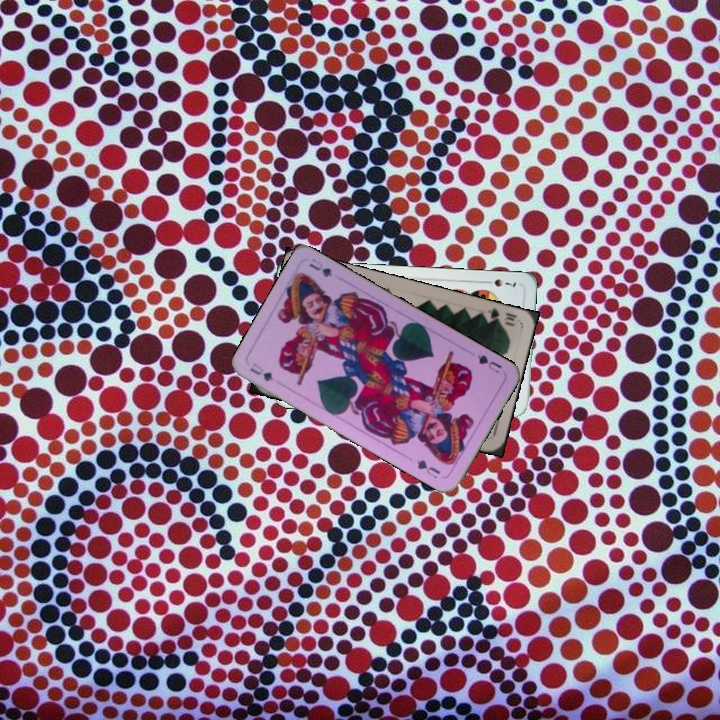G10: (479, 304, 520, 329)
GU: (473, 351, 504, 376), (246, 359, 276, 384)
S7: (480, 275, 520, 291)
